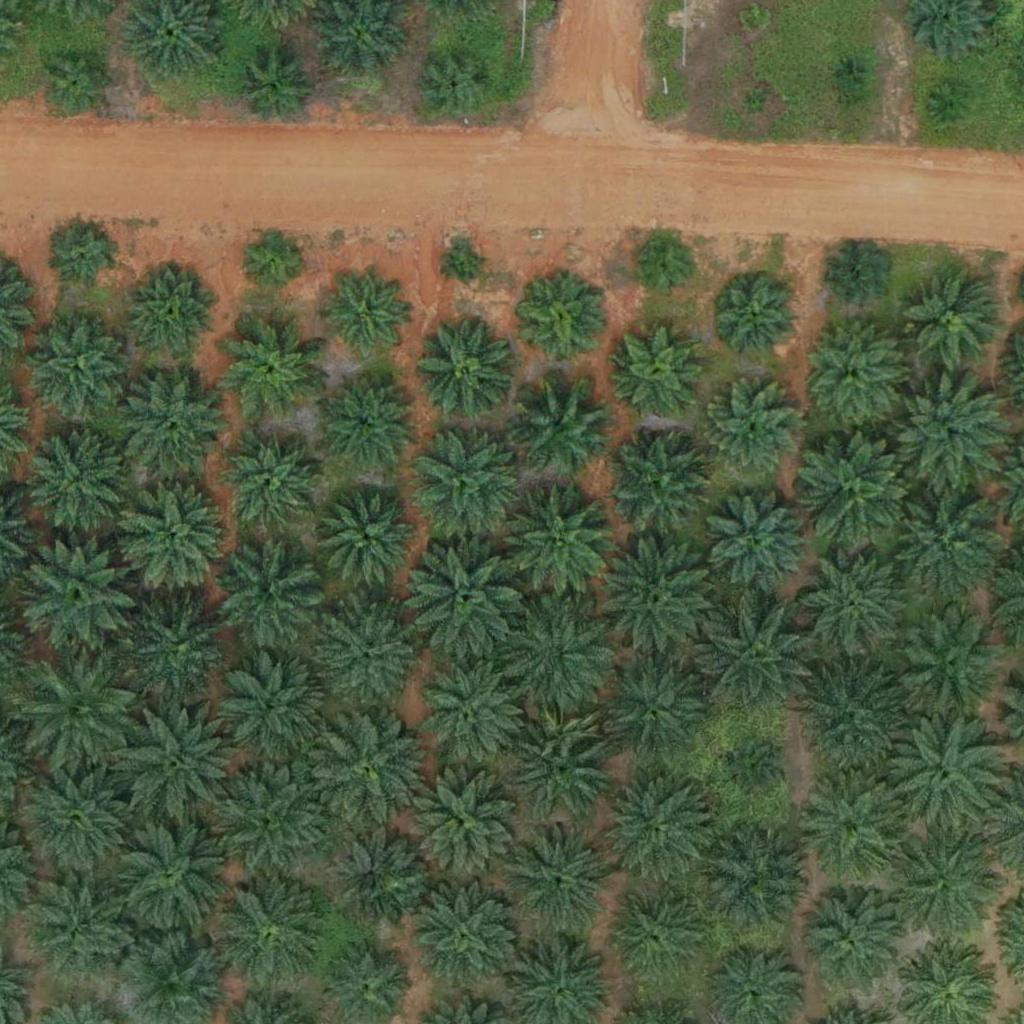Kelapa_Sawit: (17, 534, 142, 660), (15, 652, 140, 778), (112, 700, 237, 826), (400, 538, 525, 664), (493, 595, 618, 721), (589, 537, 714, 663), (694, 596, 819, 722), (795, 427, 920, 553), (791, 656, 916, 782), (878, 476, 1003, 602), (888, 707, 1013, 833), (884, 821, 1009, 947), (108, 814, 233, 940), (15, 754, 140, 880), (113, 477, 238, 602), (303, 708, 428, 833), (210, 757, 335, 882), (210, 870, 335, 995), (503, 486, 616, 600), (603, 427, 716, 541), (702, 822, 815, 936), (595, 654, 708, 767), (600, 771, 713, 884), (892, 376, 1005, 489), (893, 608, 1006, 721), (800, 771, 912, 885), (409, 421, 521, 534), (412, 657, 524, 770), (502, 706, 614, 819), (703, 488, 815, 601), (794, 545, 906, 658), (599, 885, 711, 998), (504, 819, 616, 932), (27, 315, 127, 416), (27, 427, 127, 528), (122, 372, 222, 473), (130, 599, 230, 700), (224, 319, 324, 420), (219, 434, 319, 535), (220, 548, 320, 649), (224, 652, 324, 753), (316, 371, 416, 472), (318, 487, 418, 588), (315, 603, 415, 704), (412, 775, 512, 876), (699, 381, 799, 482), (803, 322, 903, 423), (903, 270, 1003, 371), (416, 889, 516, 990), (324, 826, 424, 927), (33, 878, 133, 979), (416, 316, 516, 416), (511, 374, 611, 474), (796, 892, 896, 992), (321, 271, 409, 359), (614, 326, 702, 414), (713, 275, 801, 363), (133, 268, 220, 356), (520, 280, 607, 368), (419, 46, 494, 122), (237, 52, 312, 127), (41, 46, 116, 121), (724, 742, 787, 805), (825, 245, 888, 308), (54, 225, 116, 288), (240, 226, 302, 289), (635, 238, 697, 301), (932, 83, 970, 121), (447, 246, 484, 284), (740, 6, 765, 31), (743, 90, 768, 115), (836, 58, 861, 83)
